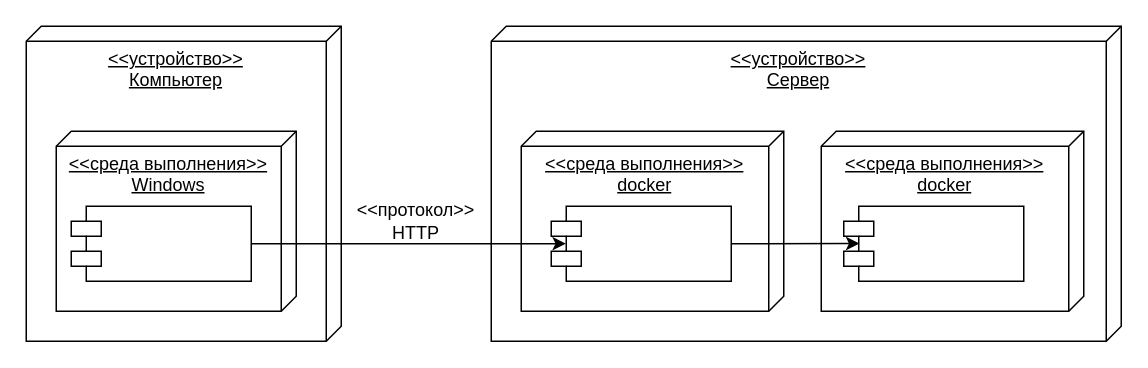
Image size: 1148x368. Some labels were removed from this diagram. Each missing label, with the centre of its shape:
"<<компонент>> novotel.exe" belongs at (160,243).
"<<компонент>> Web-API" belongs at (640,243).
"<<компонент>> База данных MSSQL" belongs at (933,243).
